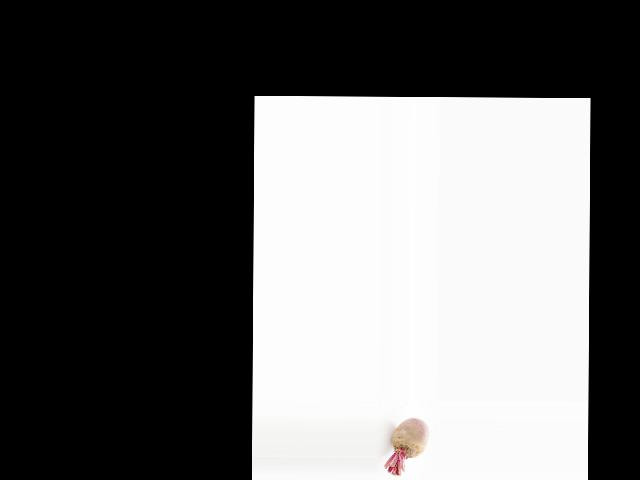beet: (383, 417, 429, 475)
